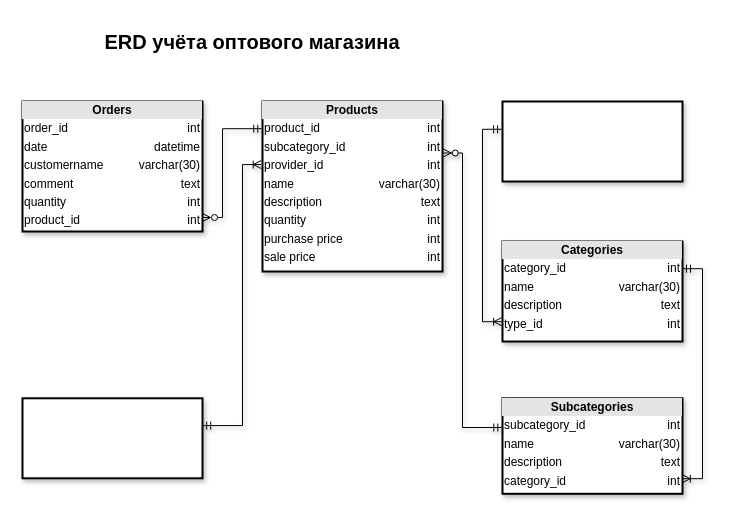
This 735x519 diagram has some shape labels left out. Here are the shapes that lost their labels. From the top down, the centre of each, then its label:
At [593,142]: "Types type_id int name varchar(30) description text".
At [113,439]: "Providers provider_id int name varchar(30) description text".
